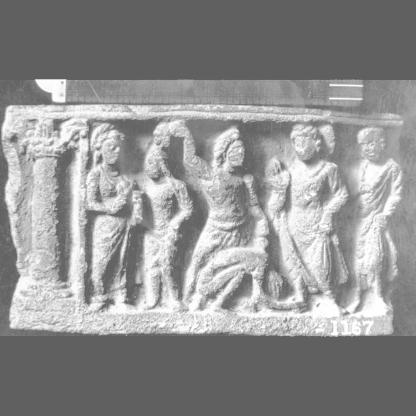buddha-standing: (266, 124, 348, 314)
